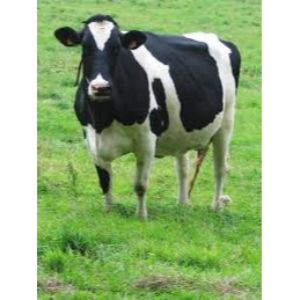cow: (50, 11, 246, 212)
